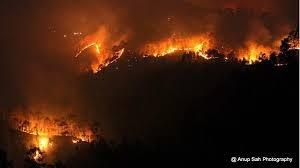fire: (135, 29, 291, 64), (18, 111, 96, 161), (73, 29, 126, 74), (235, 35, 286, 64), (70, 127, 94, 144)
